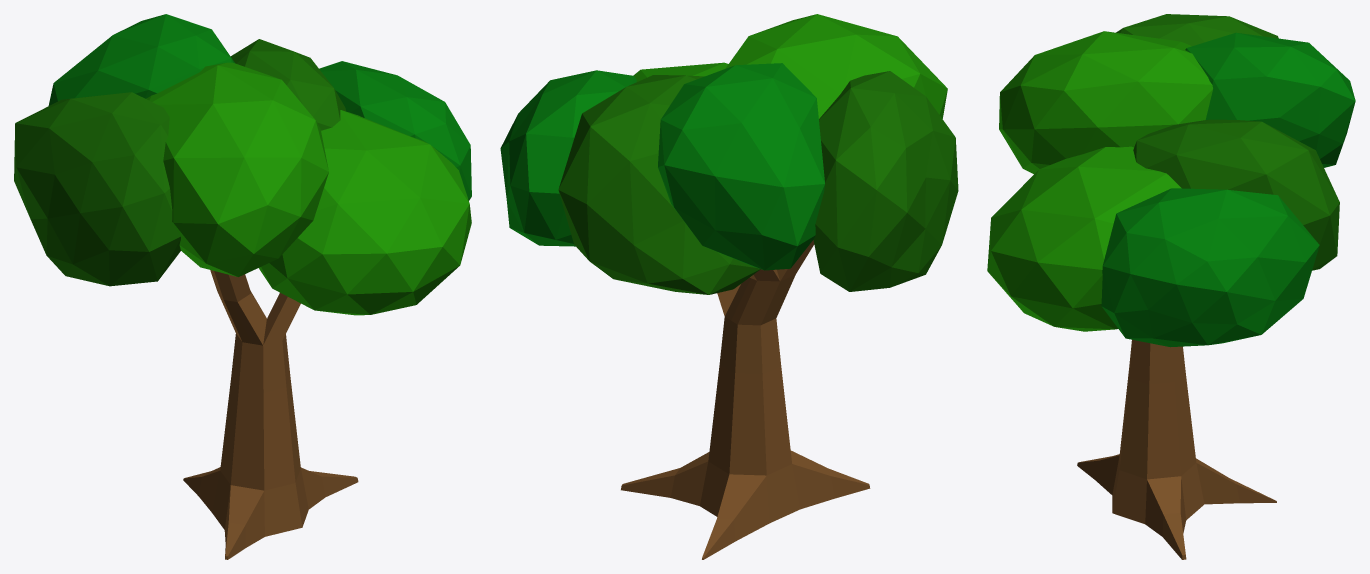
Rendered from tree1.glb.
3 renders of one model, left to right at view 1: azimuth 30°, elevation 25°; view 2: azimuth 150°, elevation 25°; view 3: azimuth 270°, elevation 25°, orthographic. The views are drawn at different scales.
Parts seen in each view (by area): view 1: Icosphere.002, Cylinder; view 2: Icosphere.002, Cylinder; view 3: Icosphere.002, Cylinder.
Part boxes in pixels (x1=…): Icosphere.002: x1=14, y1=14, x2=471, y2=315; Cylinder: x1=183, y1=270, x2=358, y2=559; Icosphere.002: x1=500, y1=14, x2=958, y2=294; Cylinder: x1=621, y1=240, x2=870, y2=559; Icosphere.002: x1=987, y1=14, x2=1355, y2=347; Cylinder: x1=1077, y1=339, x2=1276, y2=559.
Size of the model in its own units: 9.37 by 10.26 by 7.59.
